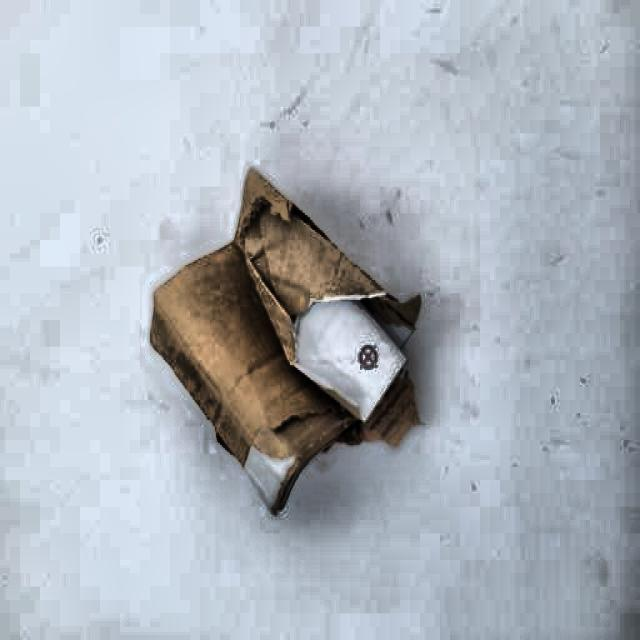cardboard: (151, 163, 426, 513)
